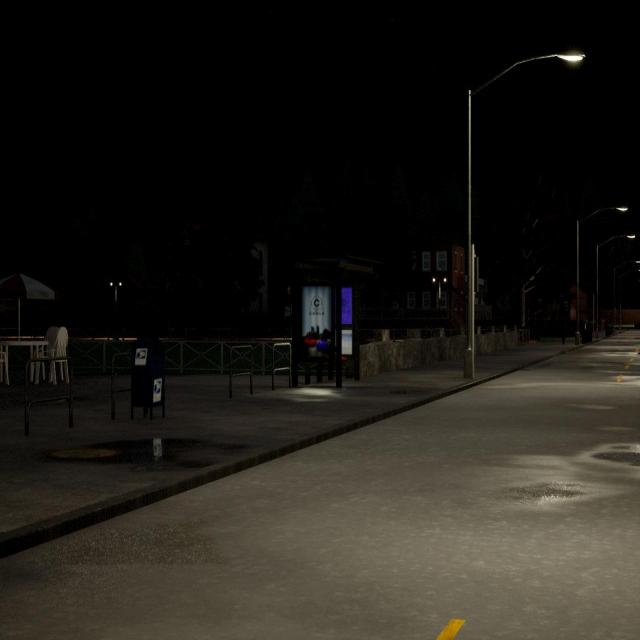traffic_light: (470, 253, 480, 296)
